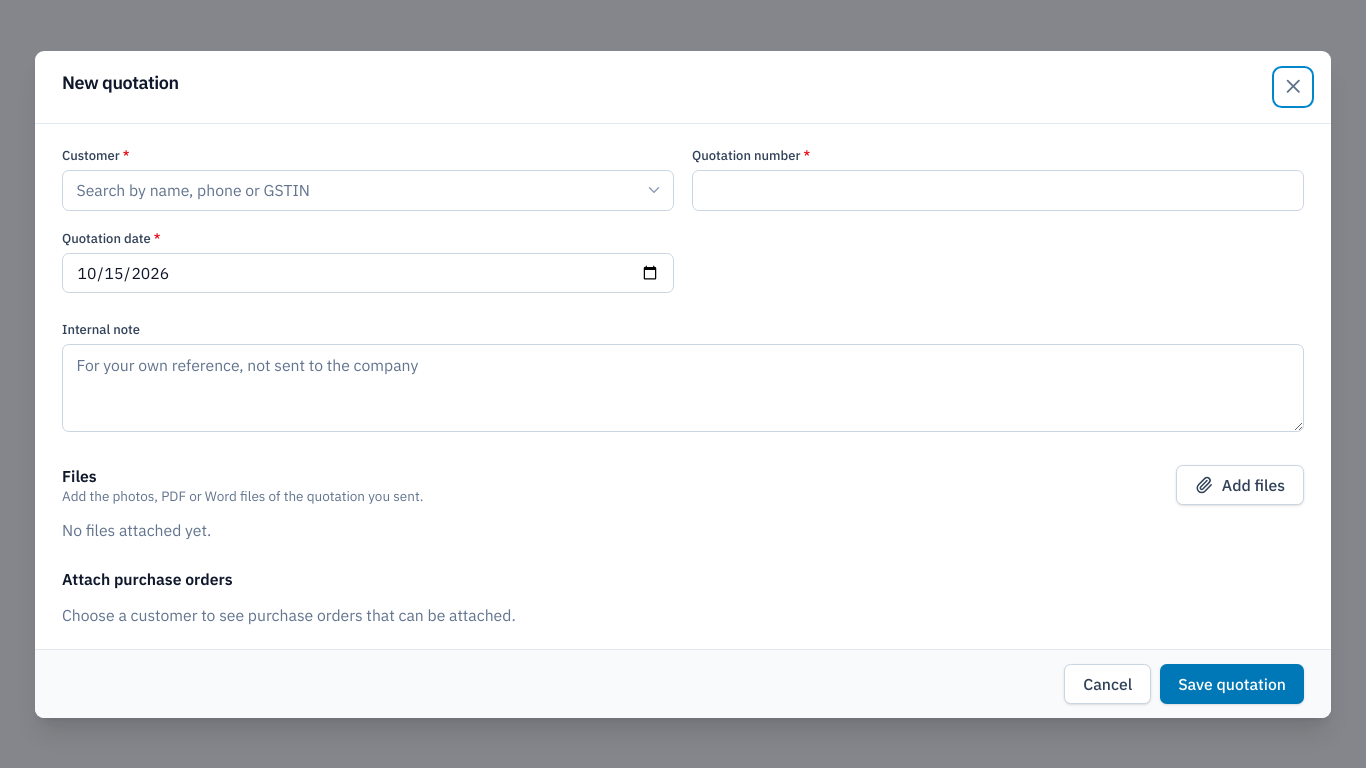
Test: a new quotation › says when the customer has no orders to attach
Click the dropdown named "Customer": (368, 190) top-left (62, 170), bottom-right (674, 210)
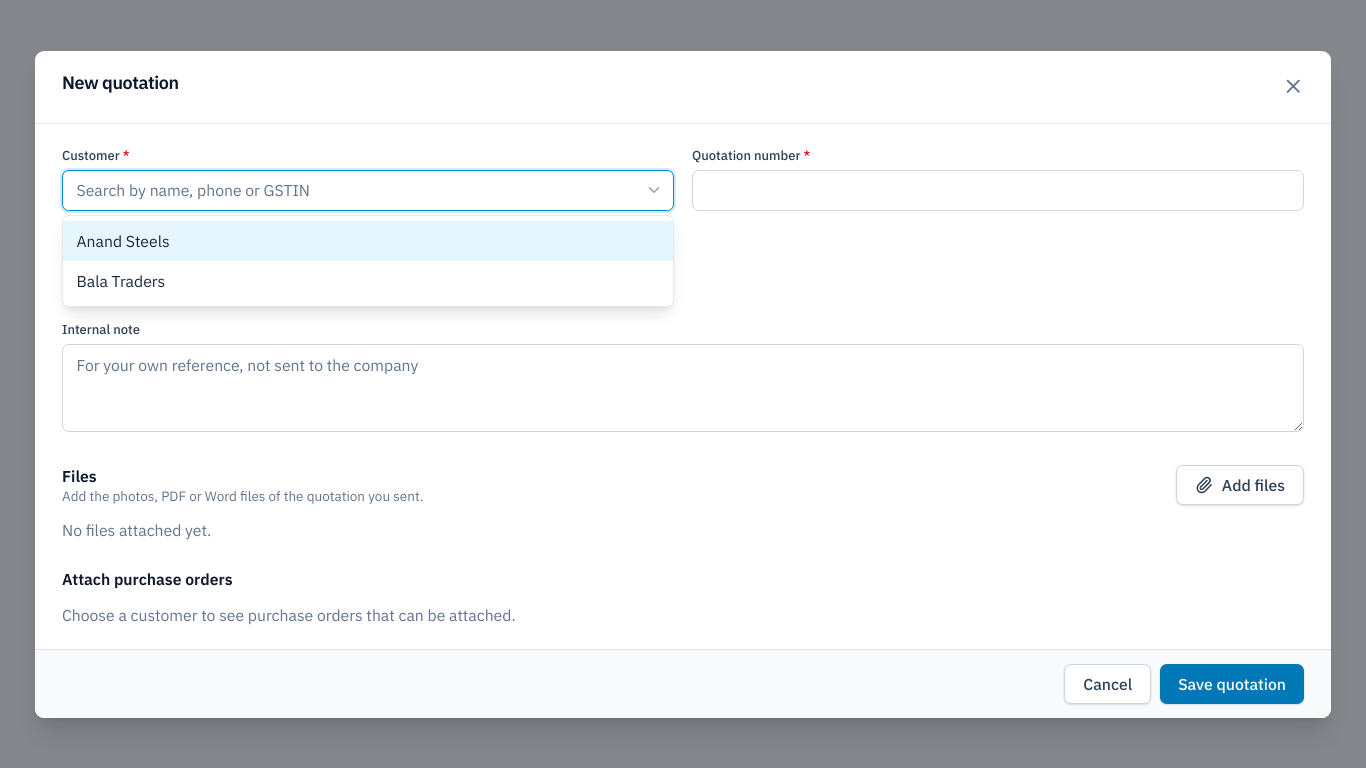
Click the option "Bala Traders": (121, 281) top-left (76, 271), bottom-right (165, 291)
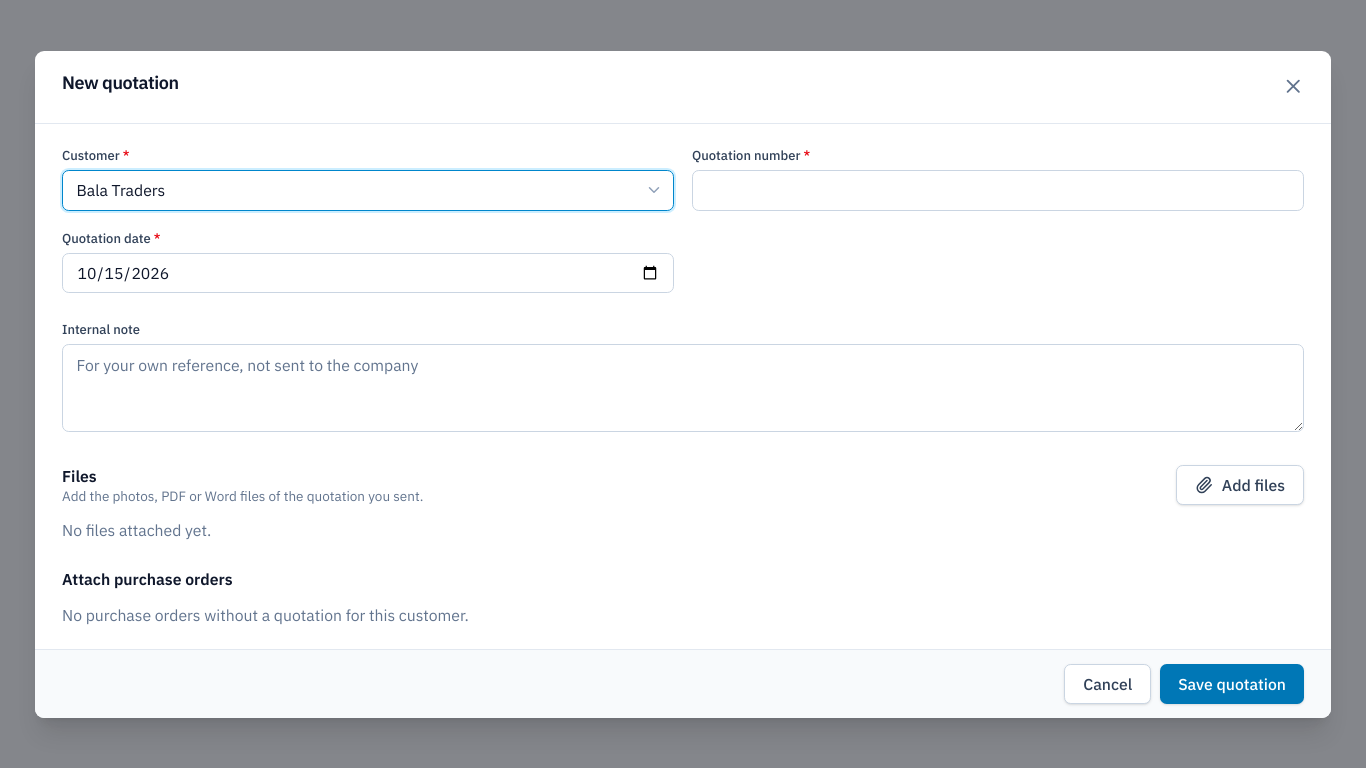
Expected: the text "No purchase orders without a quotation for this customer." is shown, top-left (62, 605), bottom-right (469, 625)
